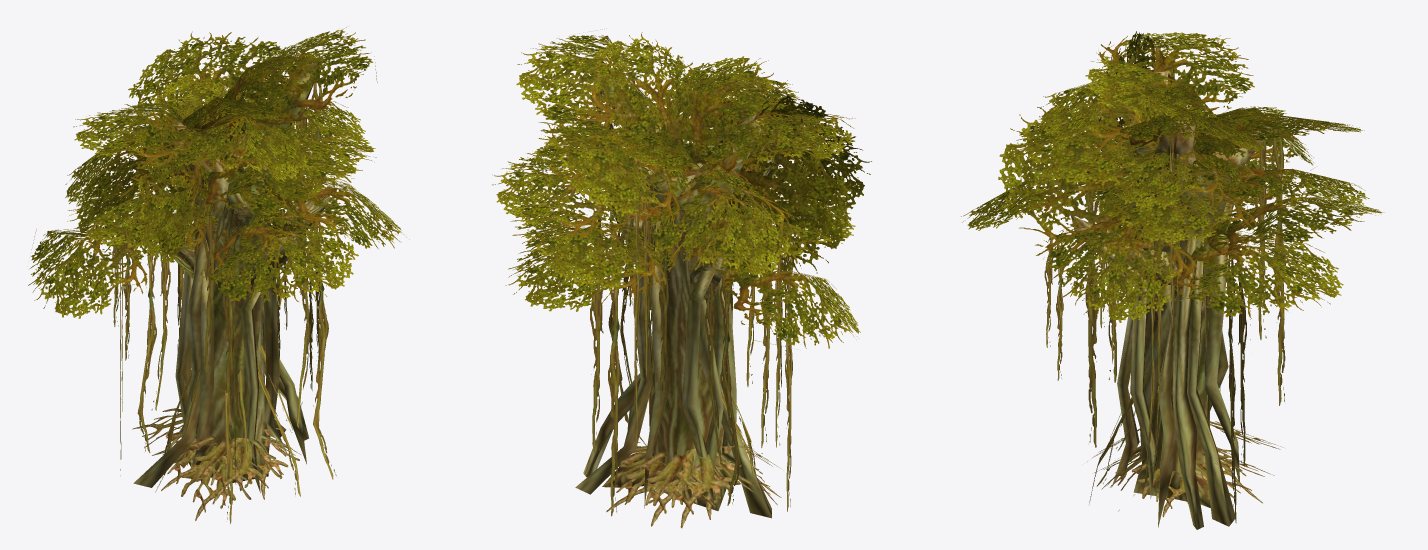
Rendered from environment_Tree_dashu_002_a.FBX.
The picture shows the model from 3 angles, left to right: view 1: azimuth 30°, elevation 25°; view 2: azimuth 150°, elevation 25°; view 3: azimuth 270°, elevation 25°; orthographic projection. The views are drawn at different scales.
Visible parts, largest first — view 1: environment_Tree_dashu_002_a; view 2: environment_Tree_dashu_002_a; view 3: environment_Tree_dashu_002_a.
Boxes of the visible parts, x1,y1,x2,y2 form: environment_Tree_dashu_002_a: (28, 27, 409, 523); environment_Tree_dashu_002_a: (492, 28, 871, 528); environment_Tree_dashu_002_a: (961, 31, 1384, 529).
Bounding box in the file's own units: 448 × 511 × 488.
1 material, 1 textured.
